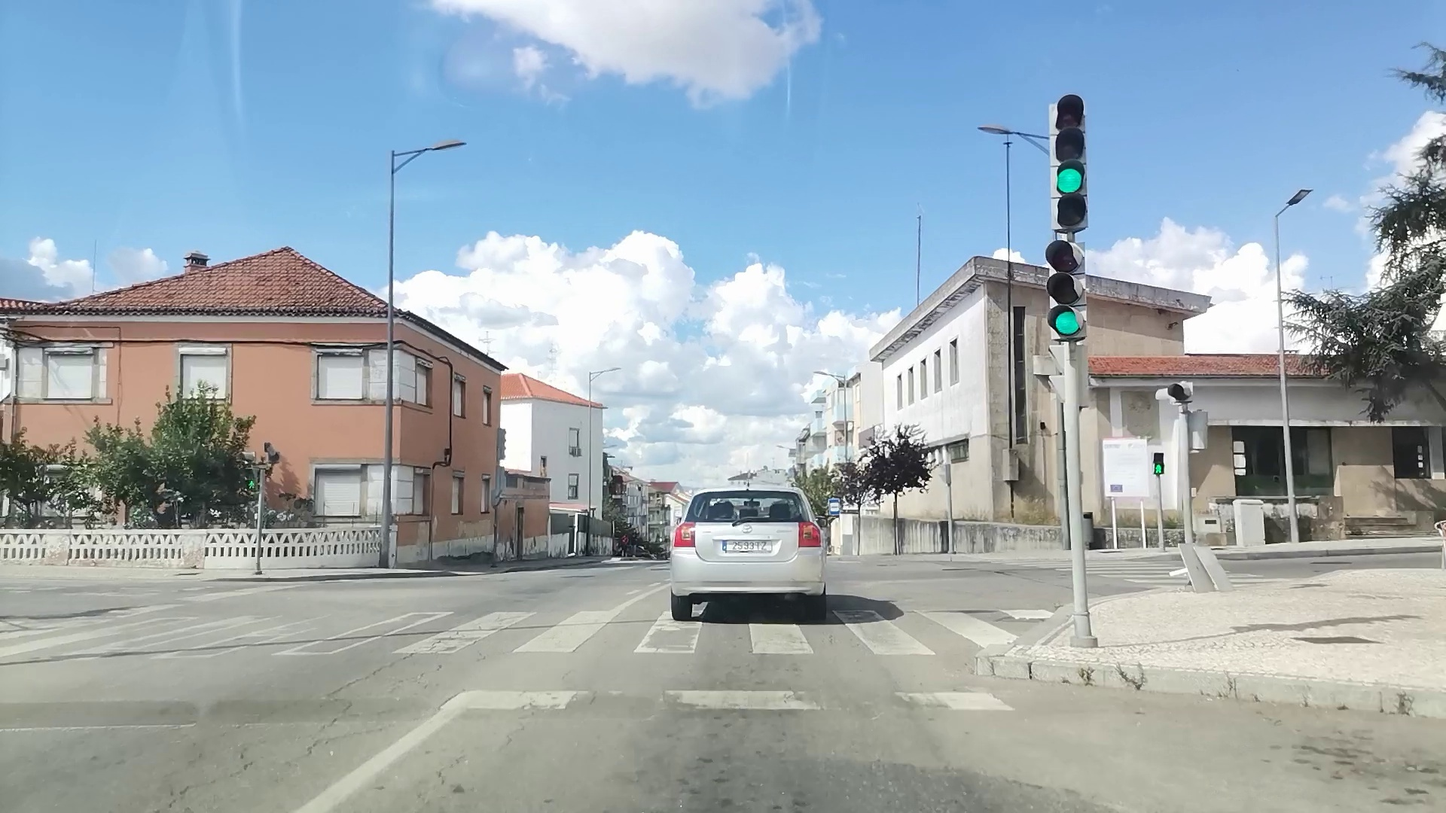Stairs: (0, 606, 1052, 664)
